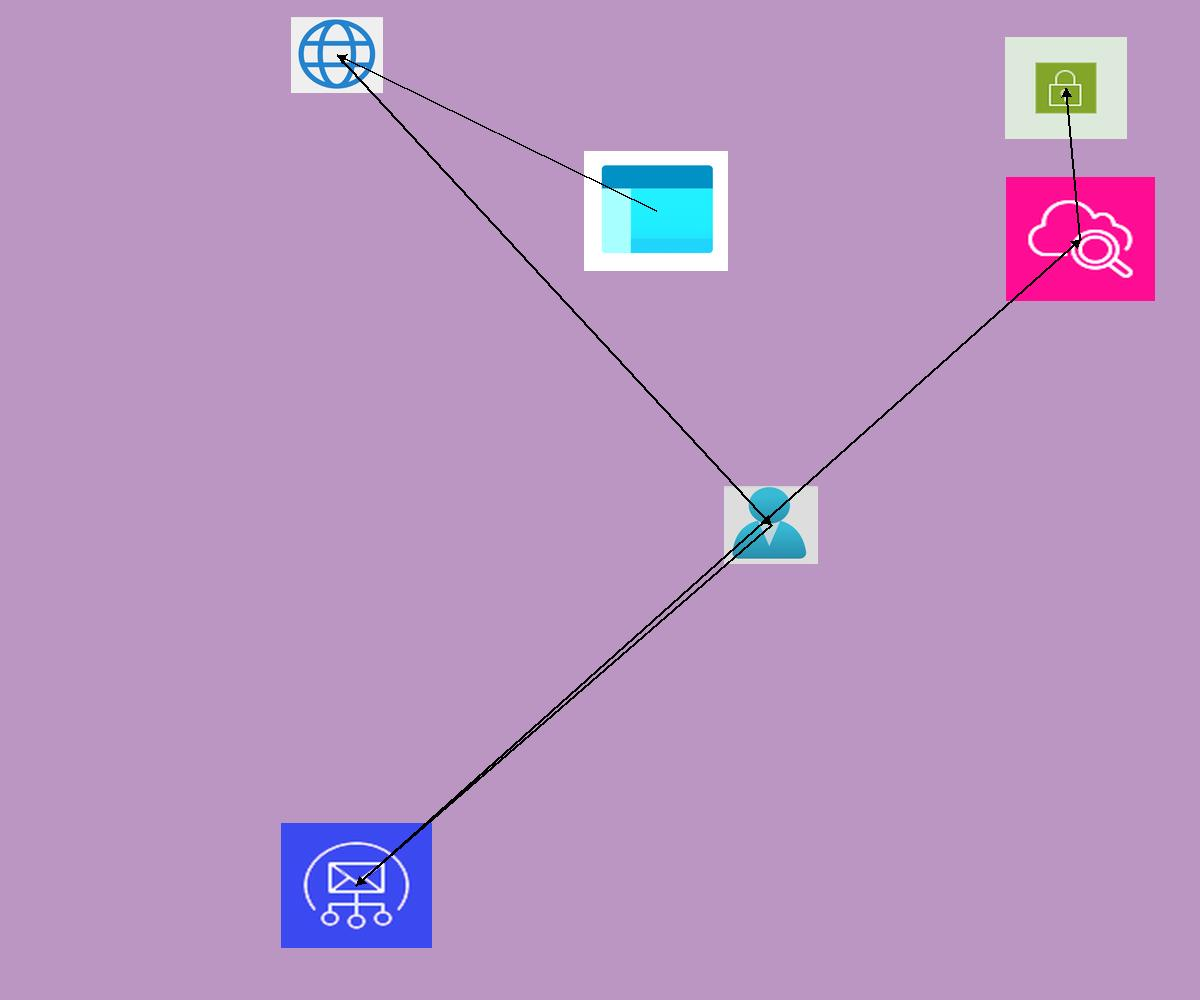AWS-CloudWatch: (1006, 177, 1155, 301)
AWS-Public-subnet: (1005, 37, 1127, 139)
AWS-Simple-Email-Service: (281, 823, 432, 948)
Azure_http: (291, 17, 383, 93)
Azure_management-portal: (584, 151, 728, 271)
Azure_users: (724, 486, 818, 564)
